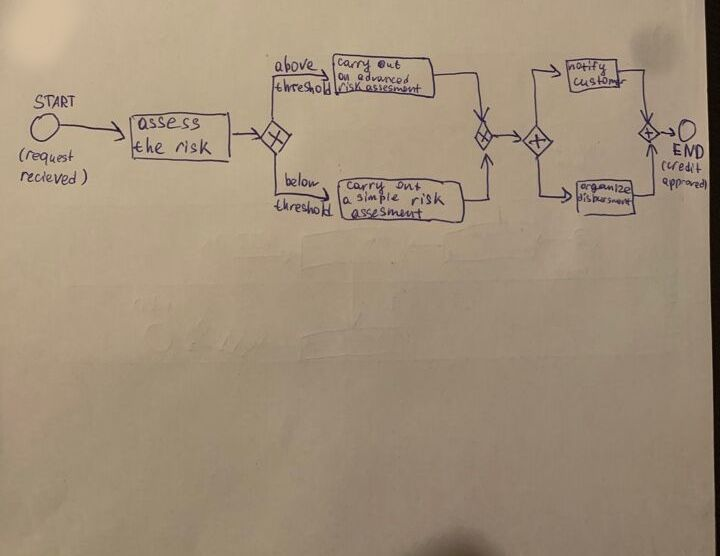(credit: (658, 159, 707, 177)
(request: (16, 144, 77, 169)
END: (669, 140, 708, 163)
START: (31, 91, 78, 113)
a: (339, 194, 356, 208)
above: (271, 54, 320, 75)
advanced: (353, 71, 412, 87)
approved): (659, 176, 709, 195)
assesment: (347, 203, 426, 224), (363, 82, 425, 96)
assess: (135, 114, 205, 136)
below: (281, 170, 324, 191)
carry: (344, 179, 390, 199), (334, 57, 375, 75)
customer: (567, 74, 632, 91)
disbursement: (576, 193, 632, 208)
notify: (566, 60, 609, 81)
on: (334, 70, 354, 84)
organize: (577, 183, 634, 195)
out: (392, 179, 426, 194), (376, 58, 404, 71)
recieved: (15, 167, 91, 189)
risk: (172, 136, 217, 159), (409, 191, 449, 210), (336, 79, 365, 99)
simple: (355, 190, 404, 209)
the: (131, 137, 168, 157)
threshold: (271, 196, 336, 221), (272, 79, 335, 98)
